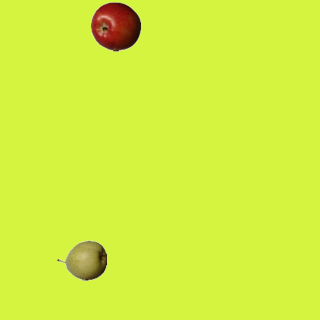Apple Braeburn: (90, 1, 140, 51)
Pear: (56, 235, 106, 285)
